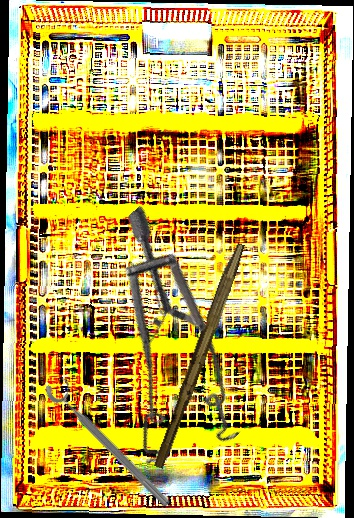Fixation Ring: (41, 371, 181, 512)
Scalpel Handle: (152, 240, 246, 471)
Speculum: (15, 204, 298, 493)
